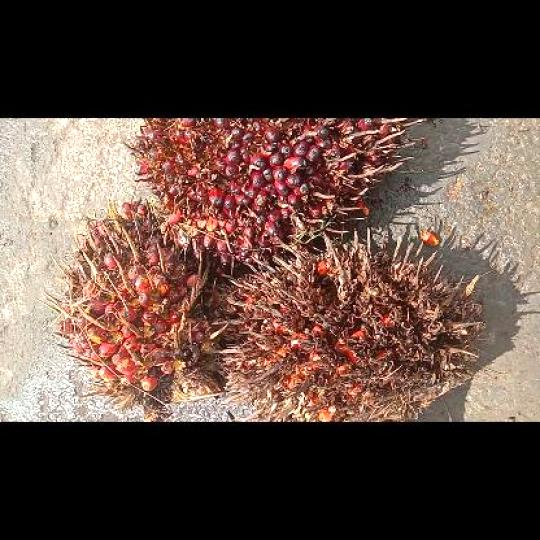masak: (128, 118, 412, 264), (40, 197, 225, 421)
terlalu masak: (211, 228, 485, 421)
